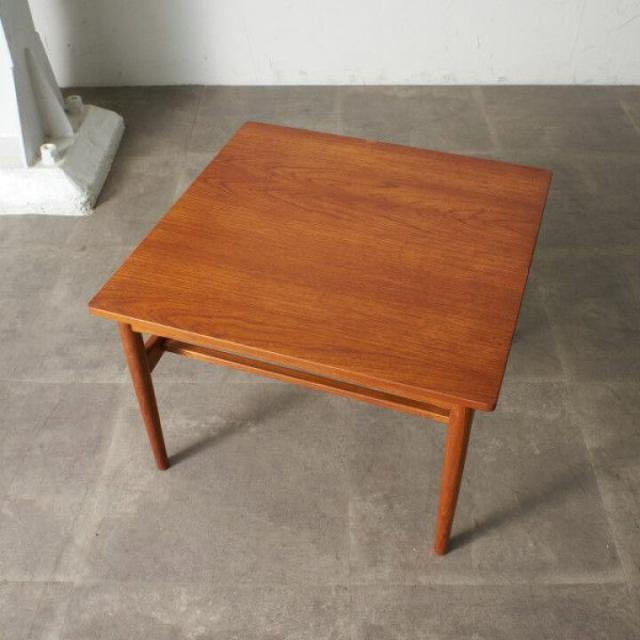vintage desk: (82, 117, 554, 553)
